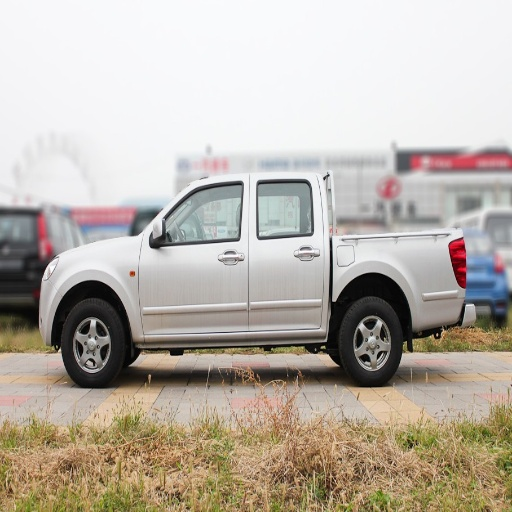back_left_door: (249, 178, 325, 328)
trunk: (329, 229, 458, 331)
